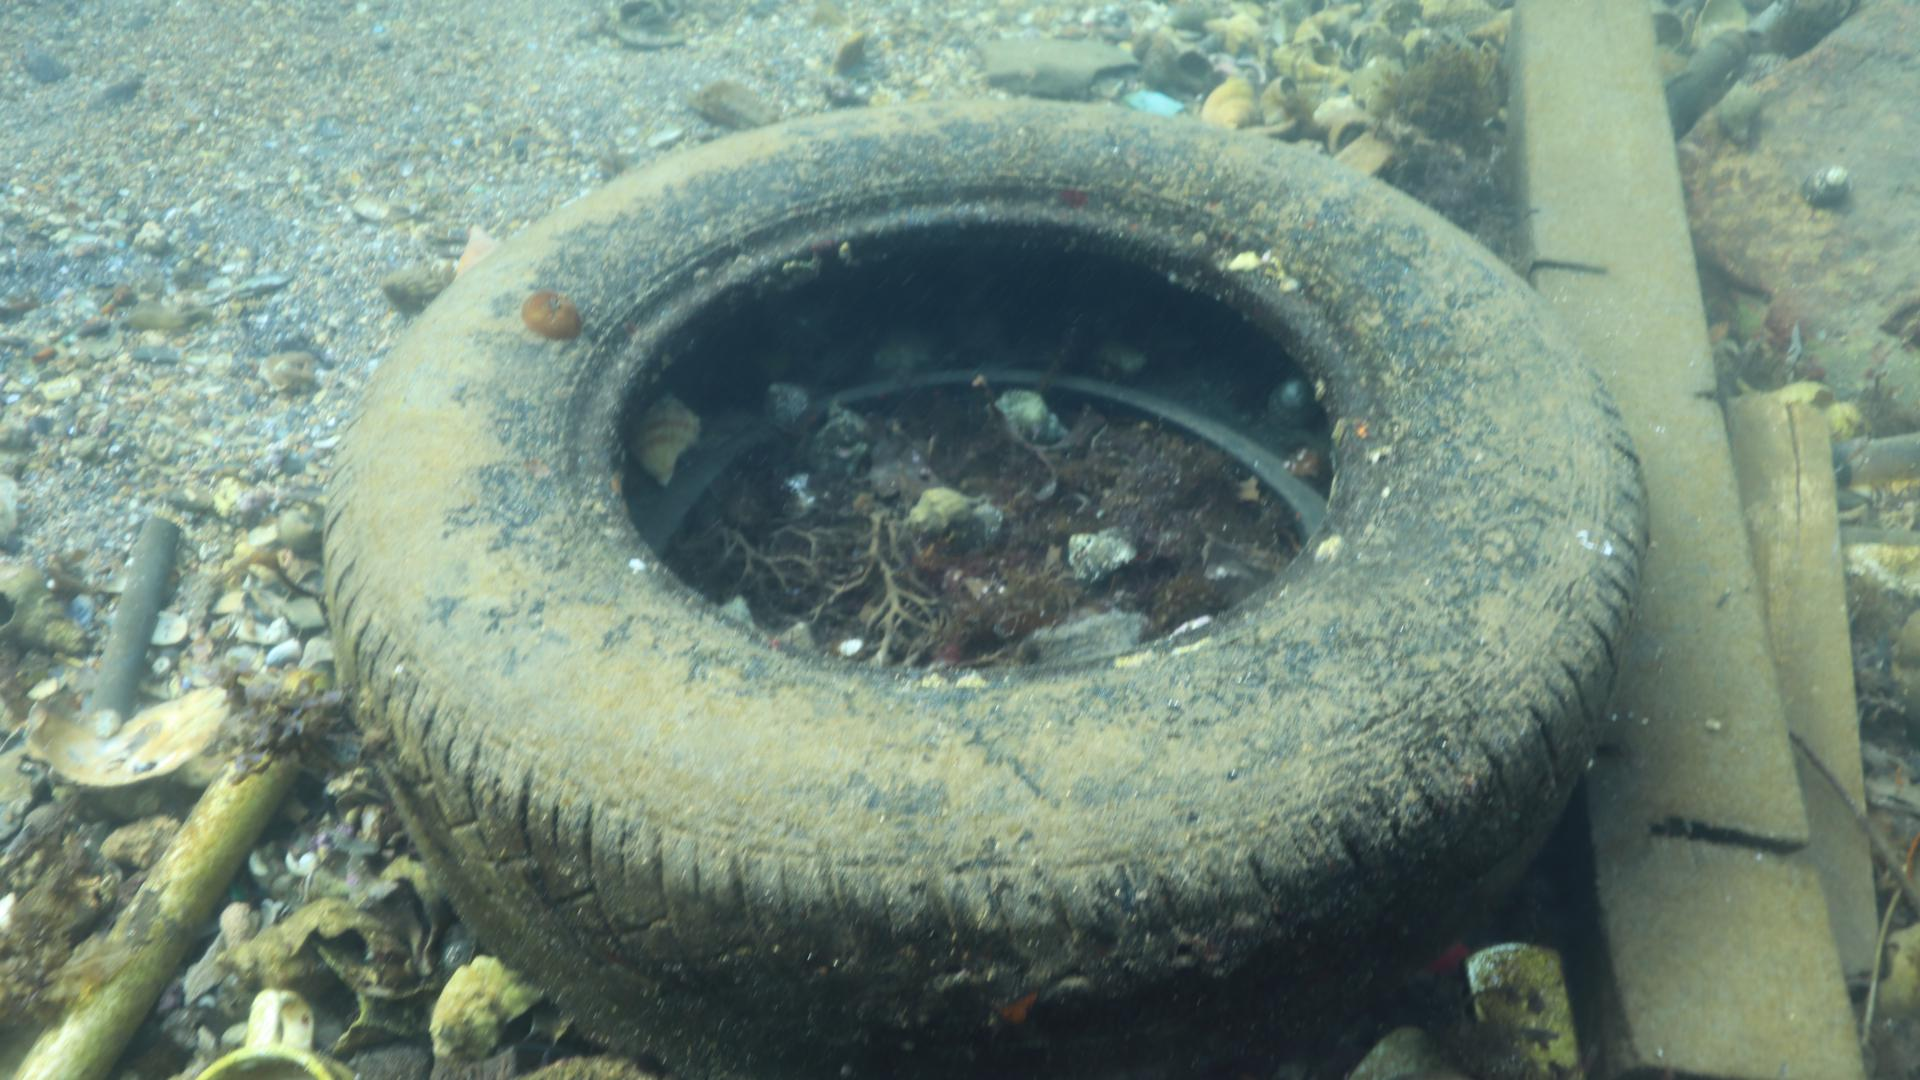tire: (314, 94, 1655, 1080)
wood: (1505, 3, 1873, 1080), (1712, 377, 1894, 1001)
